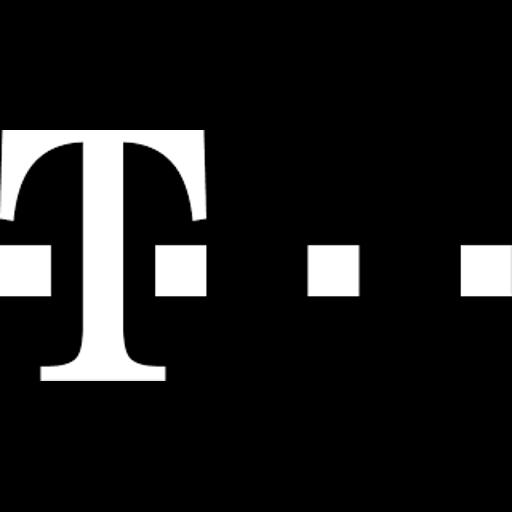Deutsche Telekom: (0, 130, 512, 381)
